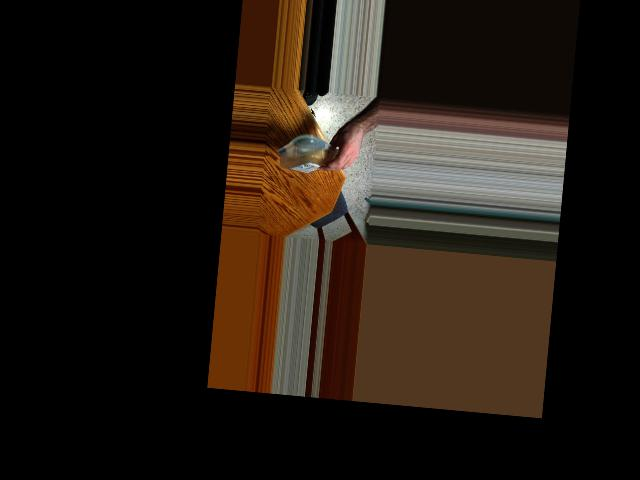cheese: (275, 134, 351, 178)
